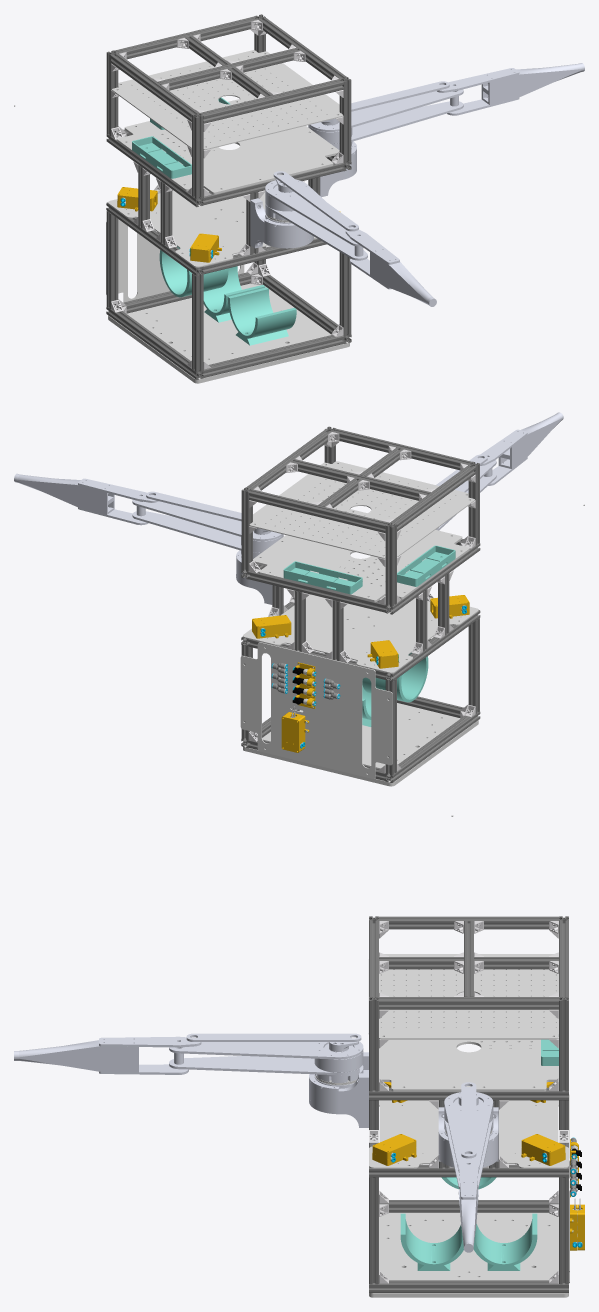
File: ULXv2.glb
3 renders of one model, top to bottom at view 1: azimuth 30°, elevation 25°; view 2: azimuth 150°, elevation 25°; view 3: azimuth 270°, elevation 25°, orthographic. The views are drawn at different scales.
Visible parts, largest first — view 1: Control Plate.step-1, Power Plate.step-1, Reference Plate.step-1, Thruster_plate.step-1, Bottle Holder type 2.step-1, Manifold Plate.step-1, Part7_Arm_Link2MiddleBlock.step-1, 20x20 360mm.step-5.001, 20x20 360mm.step-3, Part3_Arm_Link1TopPlate.step-1, Part4_Arm_Link1BottomPlate.step-1, 20x20 360mm.step-2.002 (+32 smaller); view 2: Manifold Plate.step-1, Control Plate.step-1, Thruster_plate.step-1, Power Plate.step-1, Reference Plate.step-1, Part7_Arm_Link2MiddleBlock.step-1, 20x20 360mm.step-2.002, Part3_Arm_Link1TopPlate.step-1, Battery case.step-2, Part4_Arm_Link1BottomPlate.step-1, 20x20 360mm.step-5.001, 20x20 360mm.step-4.001 (+28 smaller); view 3: Control Plate.step-1, Reference Plate.step-1, Power Plate.step-1, Thruster_plate.step-1, Part7_Arm_Link2MiddleBlock.step-1.001, 20x20 400mm.step-1, Part3_Arm_Link1TopPlate.step-1.001, 20x20 360mm.step-3.001, Part4_Arm_Link1BottomPlate.step-1.001, 20x20 360mm.step-1.002, 20x20 400mm.step-4, Bottle Holder type 2.step-2 (+23 smaller).
Part boxes in pixels (x1,y1,x2,y2): Control Plate.step-1: (112,50,343,150); Power Plate.step-1: (117,99,339,194); Reference Plate.step-1: (108,283,349,383); Thruster_plate.step-1: (108,188,317,267); Bottle Holder type 2.step-1: (227,287,296,345); Manifold Plate.step-1: (106,219,244,302); Part7_Arm_Link2MiddleBlock.step-1: (481,63,584,104); 20x20 360mm.step-5.001: (200,79,343,123); 20x20 360mm.step-3: (202,335,343,377); Part3_Arm_Link1TopPlate.step-1: (309,89,463,131); Part4_Arm_Link1BottomPlate.step-1: (331,101,463,145); 20x20 360mm.step-2.002: (115,16,258,59); Manifold Plate.step-1: (240,642,392,778); Control Plate.step-1: (249,461,474,558); Thruster_plate.step-1: (243,594,478,673); Power Plate.step-1: (253,509,469,602); Reference Plate.step-1: (243,703,478,786); Part7_Arm_Link2MiddleBlock.step-1: (14,473,114,514); 20x20 360mm.step-2.002: (249,489,388,533); Part3_Arm_Link1TopPlate.step-1: (132,499,282,541); Battery case.step-2: (283,561,362,594); Part4_Arm_Link1BottomPlate.step-1: (132,511,260,554); 20x20 360mm.step-5.001: (332,428,471,470); 20x20 360mm.step-4.001: (291,459,430,500); Control Plate.step-1: (368,954,558,1039); Reference Plate.step-1: (369,1212,568,1297); Power Plate.step-1: (379,1039,558,1091); Thruster_plate.step-1: (369,1100,568,1168); Part7_Arm_Link2MiddleBlock.step-1.001: (14,1040,138,1072); 20x20 400mm.step-1: (369,1280,568,1292); Part3_Arm_Link1TopPlate.step-1.001: (169,1041,363,1059); 20x20 360mm.step-3.001: (379,997,558,1009); Part4_Arm_Link1BottomPlate.step-1.001: (169,1056,359,1075); 20x20 360mm.step-1.002: (379,916,558,929); 20x20 400mm.step-4: (379,1200,558,1212); Bottle Holder type 2.step-2: (473,1213,537,1270).
Bounding box in the file's own units: 1.48 × 0.7048 × 1.14.
